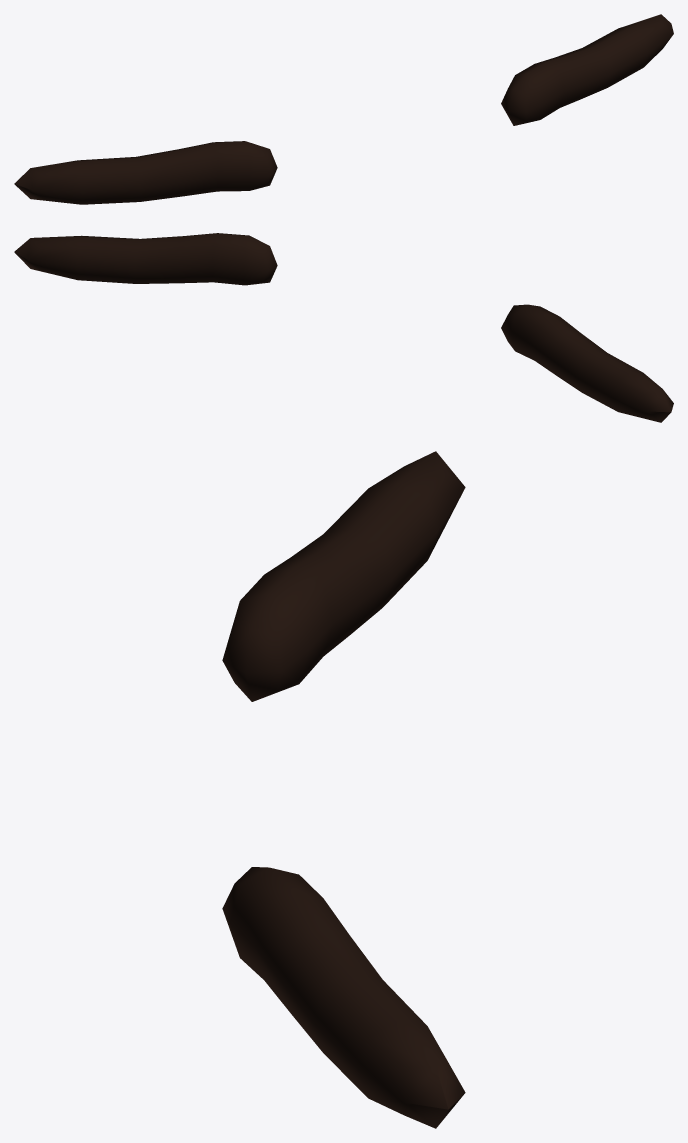
Rendered from Face_Eyebrows_Neutral_Dark.fbx.
The picture shows the model from 3 angles, top to bottom: view 1: azimuth 30°, elevation 25°; view 2: azimuth 150°, elevation 25°; view 3: azimuth 270°, elevation 25°; orthographic projection. The views are drawn at different scales.
Visible parts, largest first — view 1: Cube; view 2: Cube; view 3: Cube.
Boxes of the visible parts, bbox=[...] form: Cube: bbox=[14, 14, 673, 204]; Cube: bbox=[14, 233, 673, 422]; Cube: bbox=[222, 451, 465, 1128].
Bounding box in the file's own units: 31 × 2.4 × 4.97.
